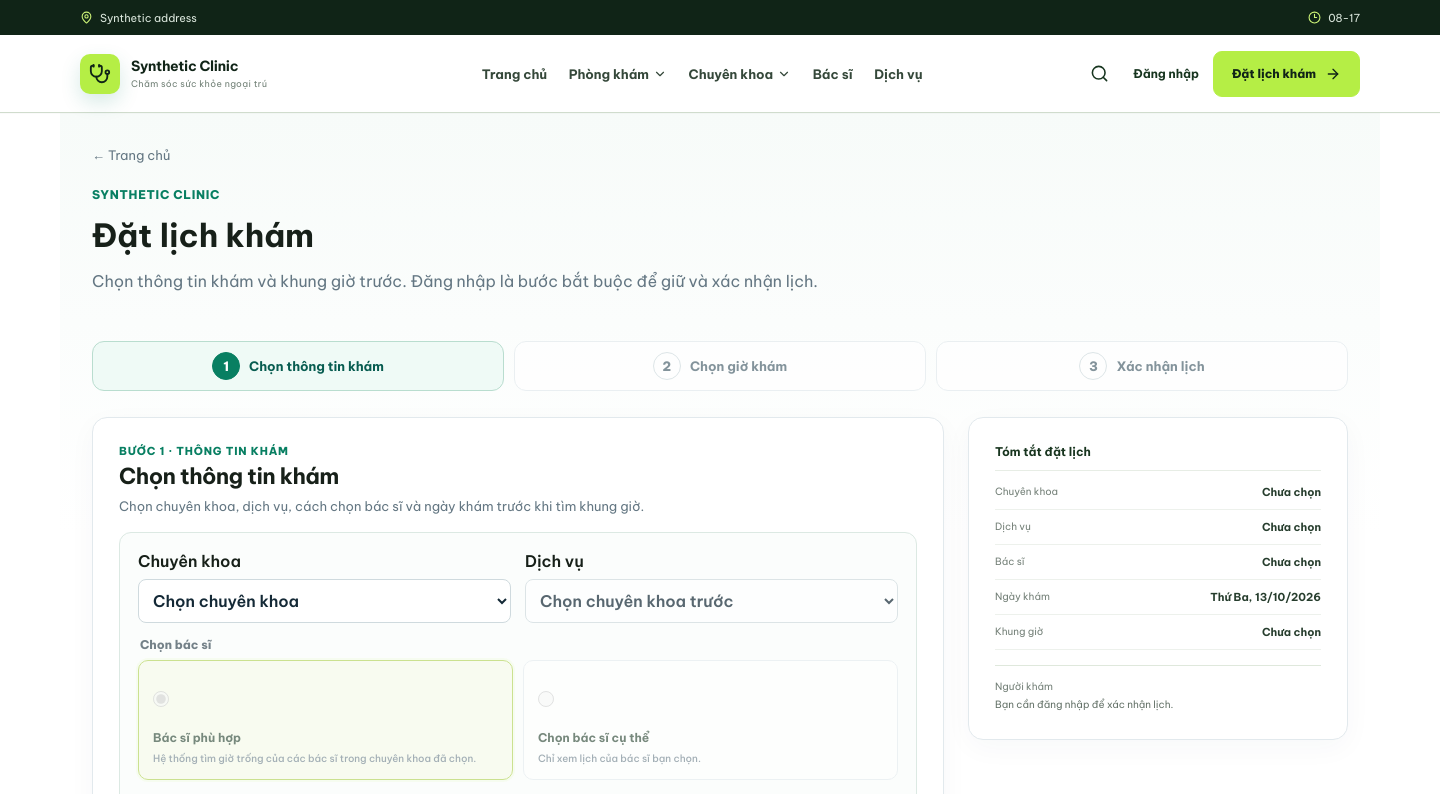
explains that a specific doctor does not work on the selected date
Expected: the heading "Chọn thông tin khám" is shown, [119,462,339,490]
Select "Nhi" in the dropdown labelled "Chuyên khoa" at (324, 601), box [138,579,511,623]
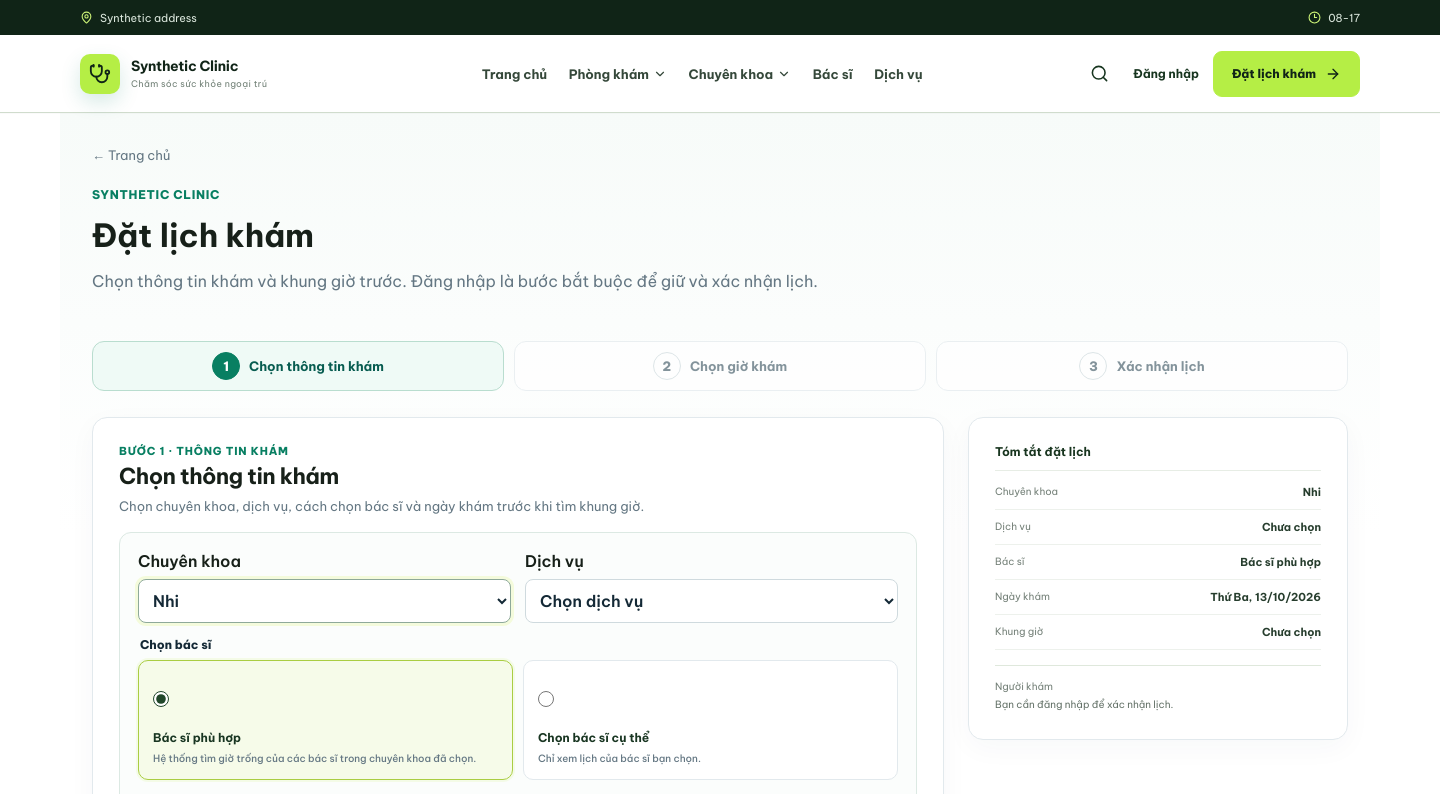
Select "Khám Nhi" in the dropdown labelled "Dịch vụ" at (712, 601), box [525,579,898,623]
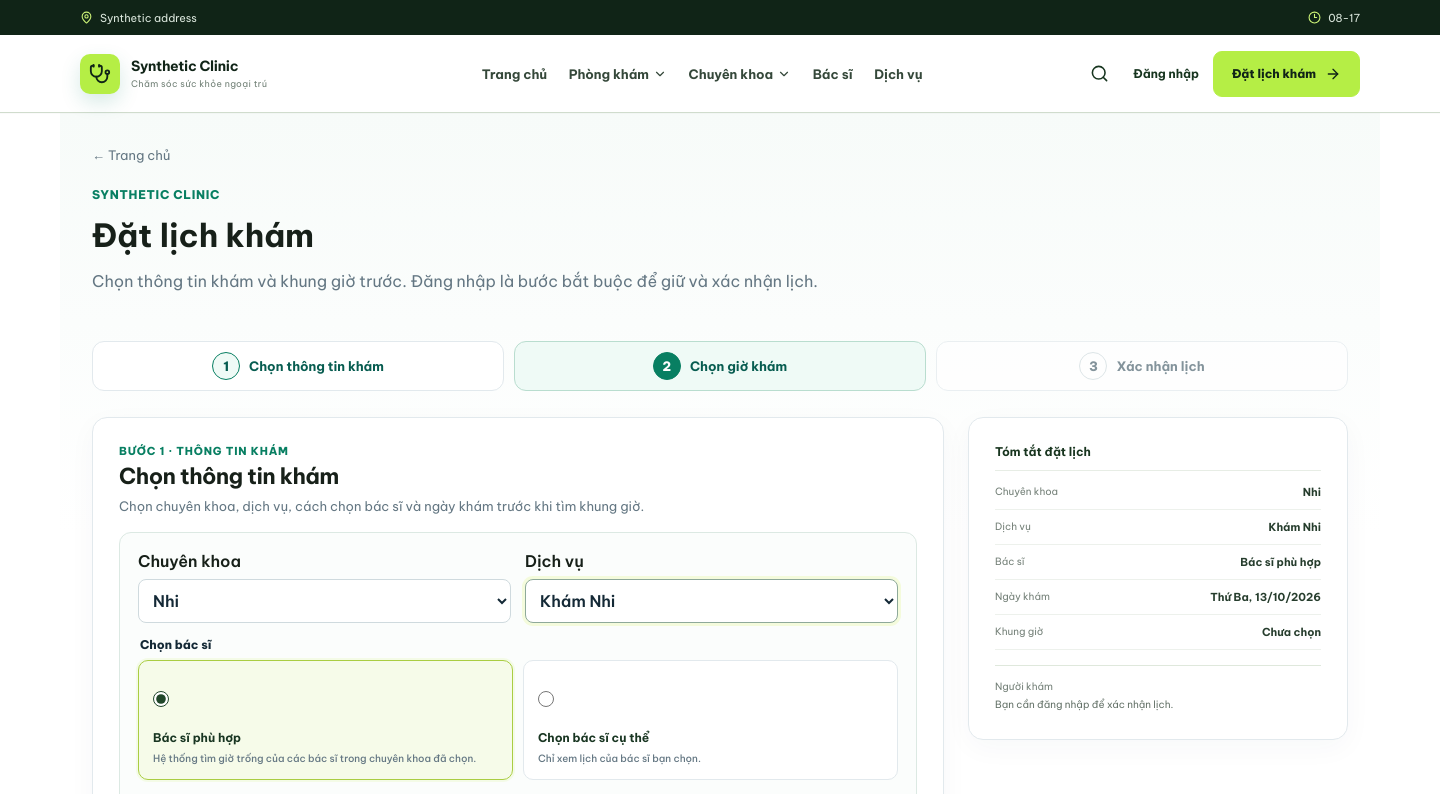
Click the radio button labelled "Chọn bác sĩ cụ thể Chỉ xem lịch của bác sĩ bạn chọn.".
click(546, 699)  # box [538,677,554,721]
(page scrolled)
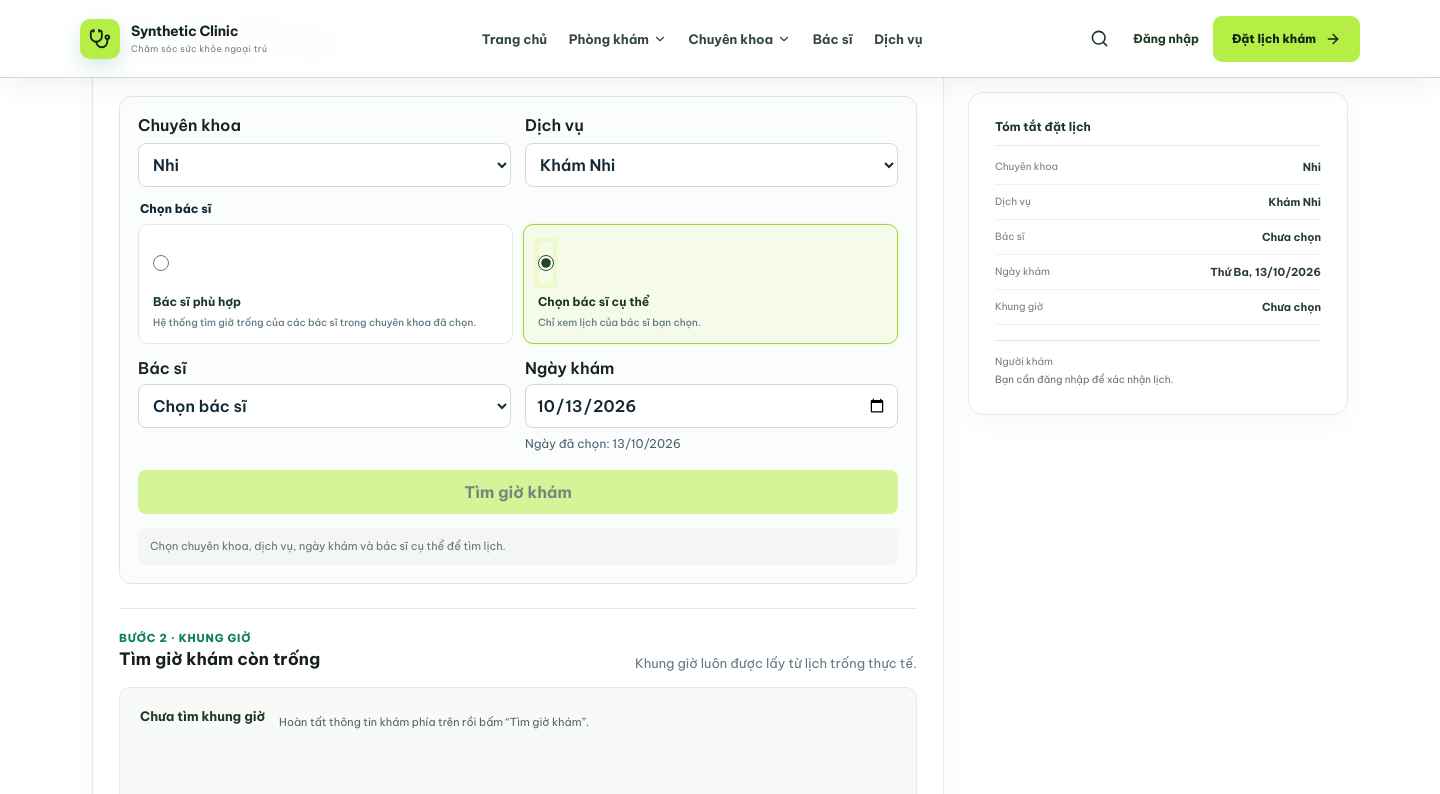
Select "Bác sĩ Nhi" in the dropdown labelled "Bác sĩ" at (324, 406), box [138,384,511,428]
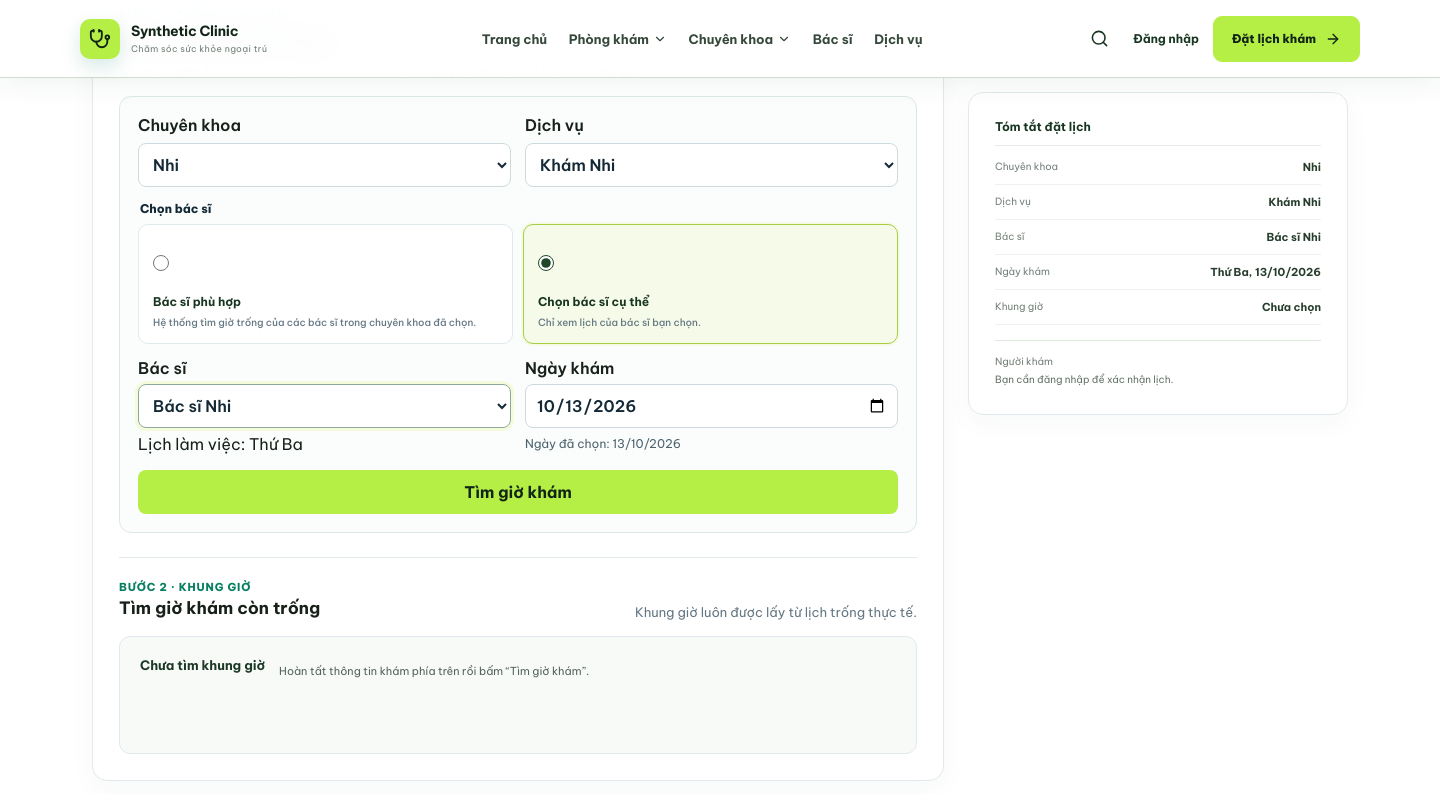
Type "2026-08-08" into the date field labelled "Ngày khám".
click(712, 406); type("2026-08-08")  # box [525,384,898,428]
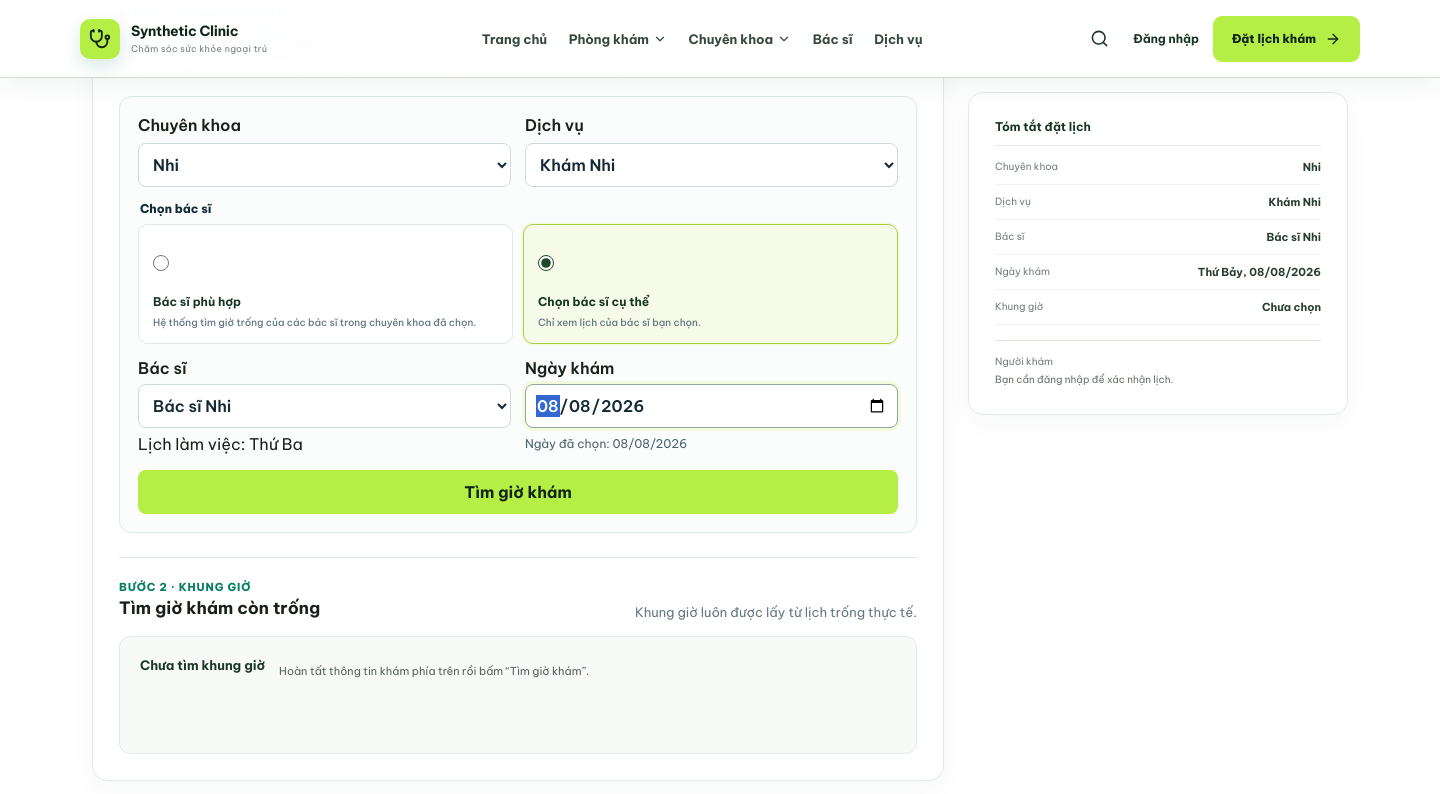
Click the button "Tìm giờ khám".
click(518, 492)  # box [138,470,898,514]
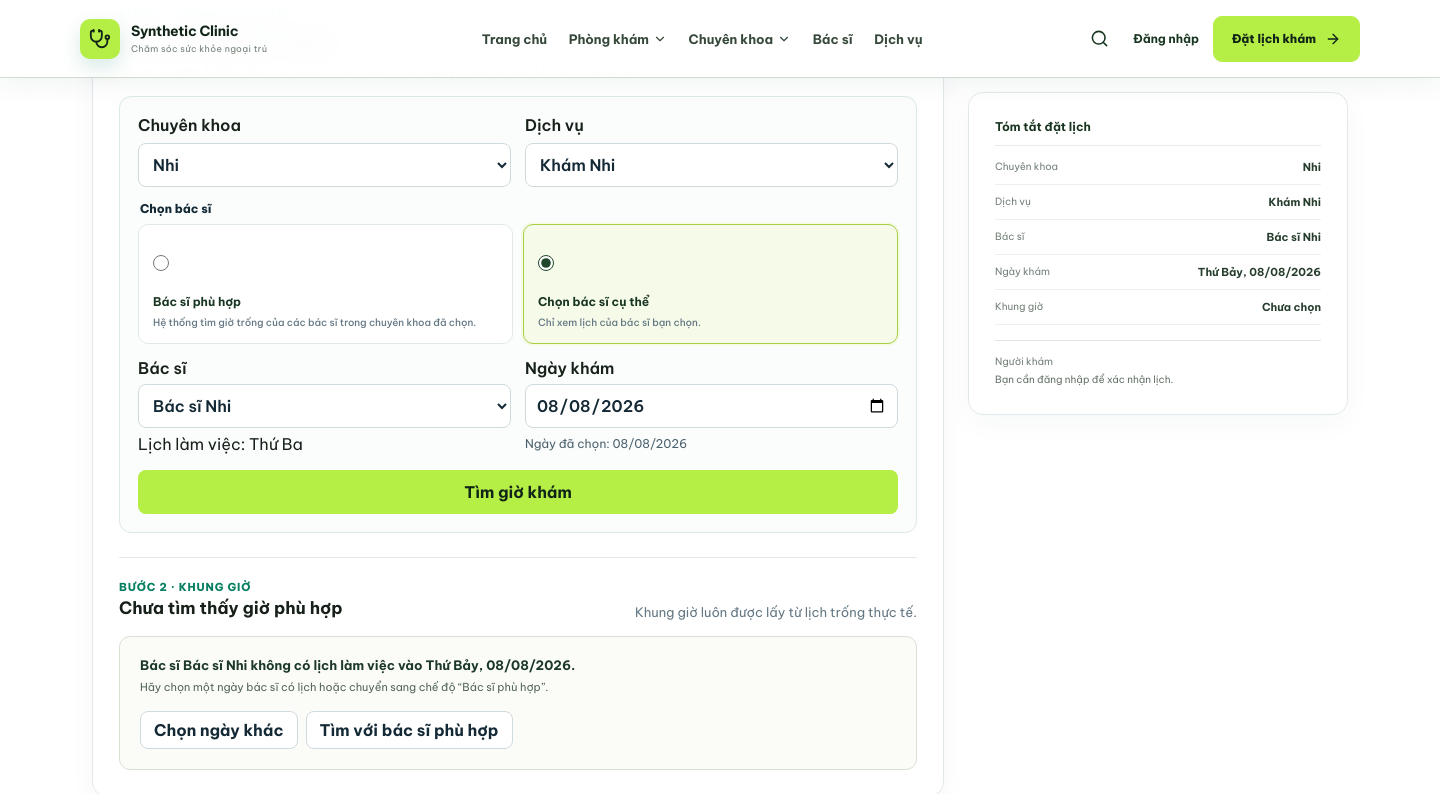
Expected: the button "Tìm với bác sĩ phù hợp" is shown, [306,711,512,749]
